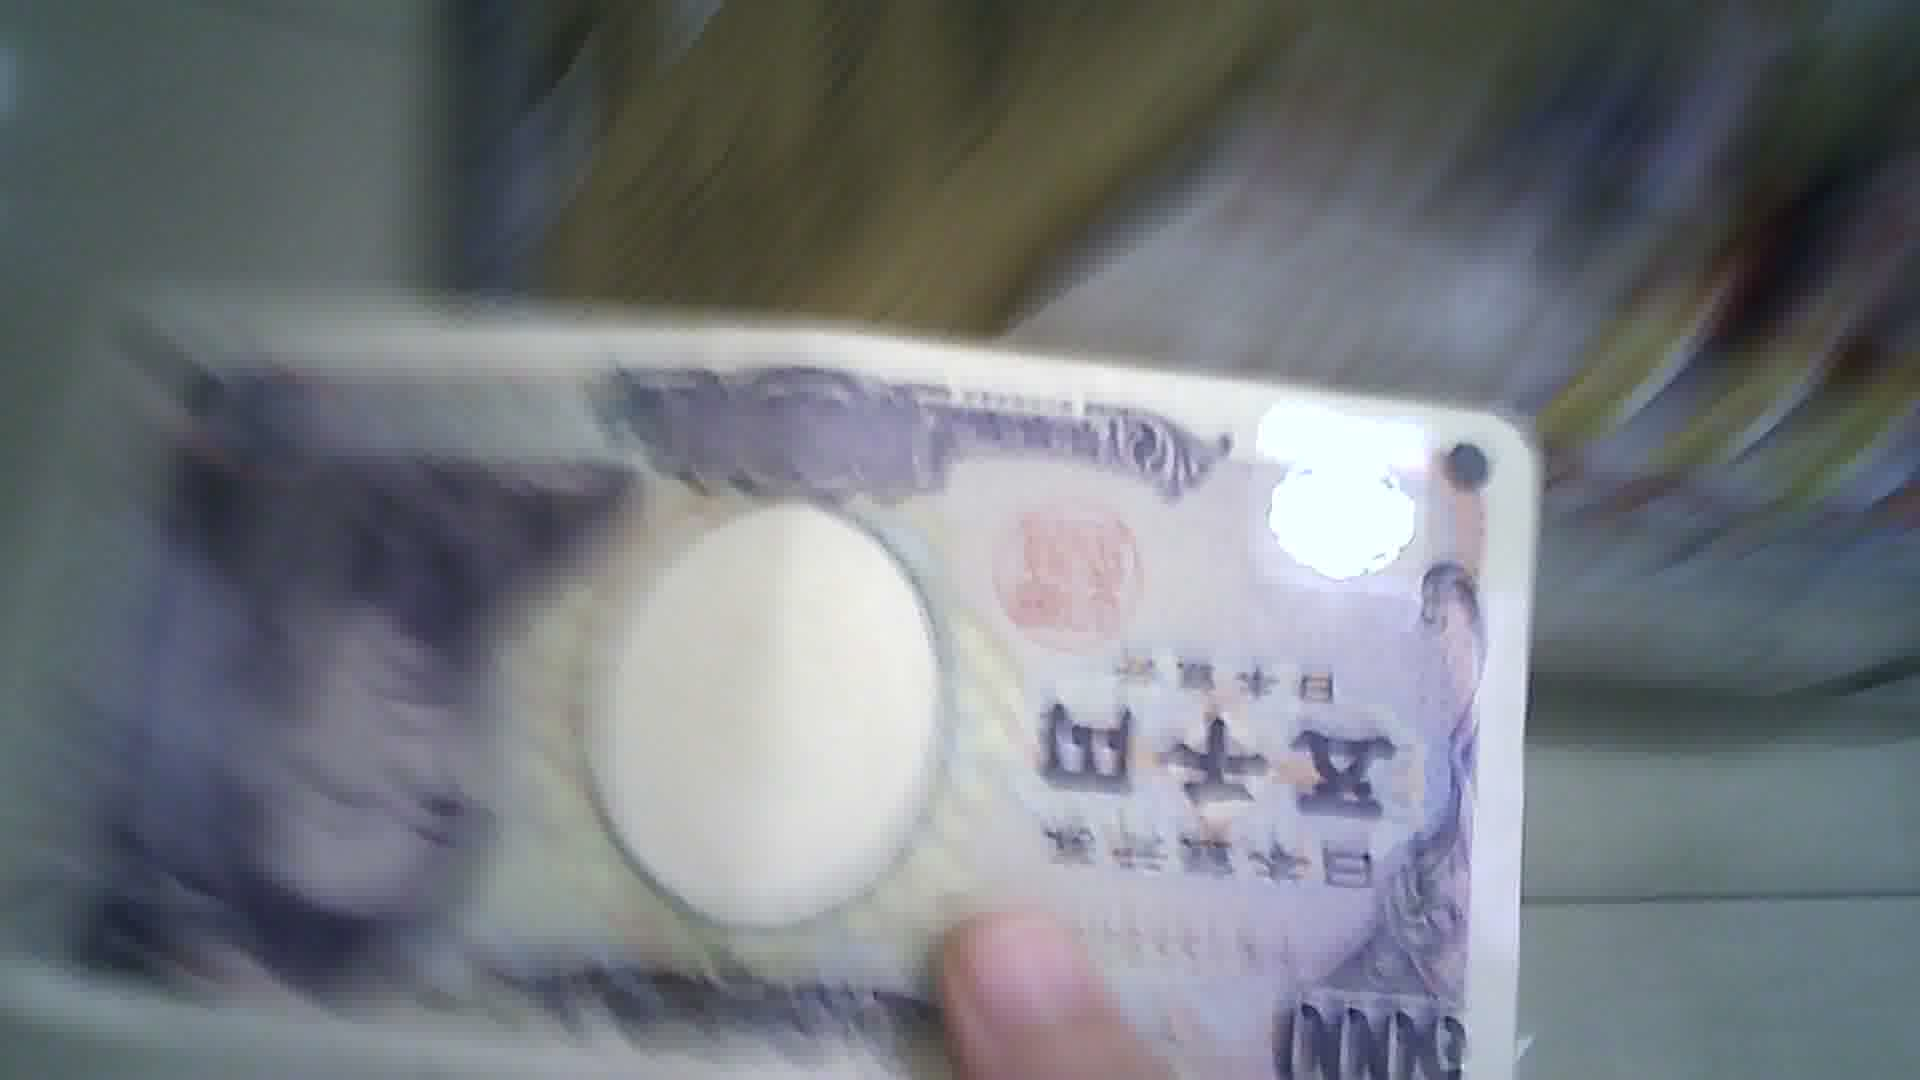5,000 Yen: (498, 345, 1524, 1079)
